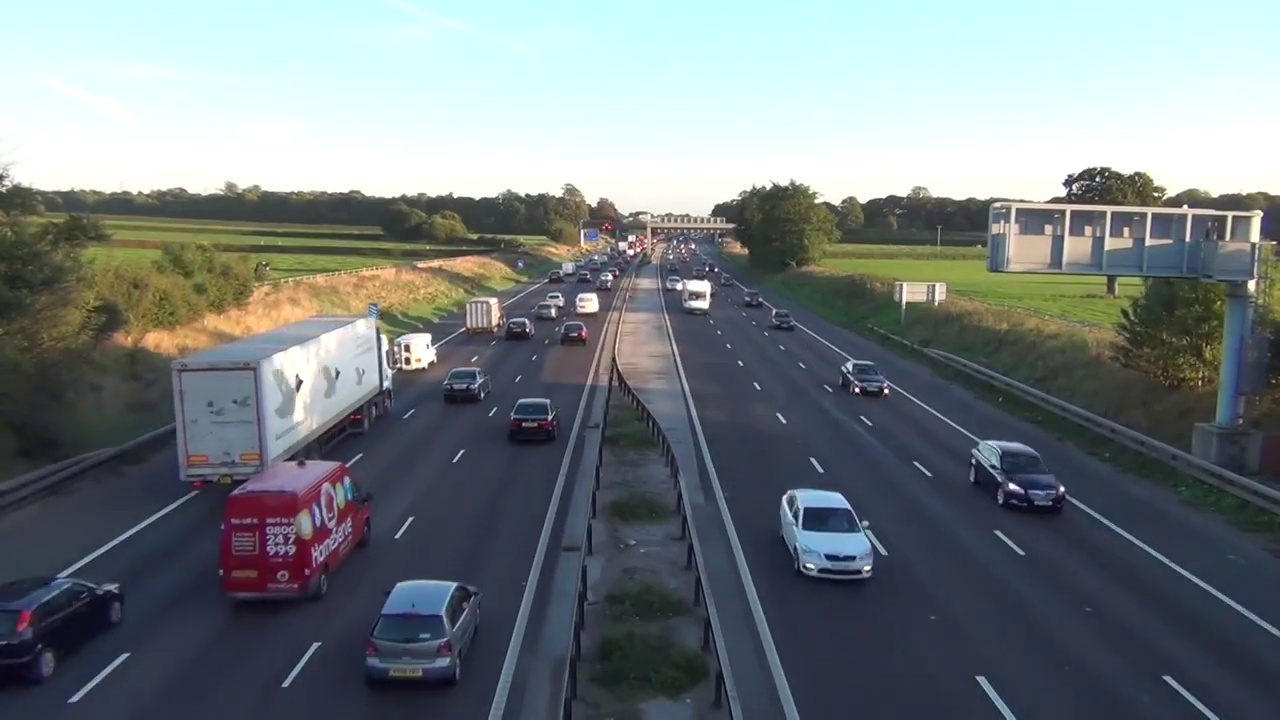bus: (1, 574, 131, 686), (366, 579, 484, 683), (777, 488, 878, 584), (968, 439, 1068, 519), (510, 397, 559, 446), (838, 357, 891, 398), (442, 367, 490, 401), (558, 322, 590, 345), (768, 310, 799, 333), (576, 292, 601, 316), (507, 318, 534, 340), (532, 300, 559, 320), (741, 289, 766, 310), (547, 291, 565, 306)
car: (170, 317, 397, 489), (462, 298, 502, 334)
lorry: (392, 332, 438, 372)
minibus: (215, 461, 373, 609), (680, 278, 711, 316)
